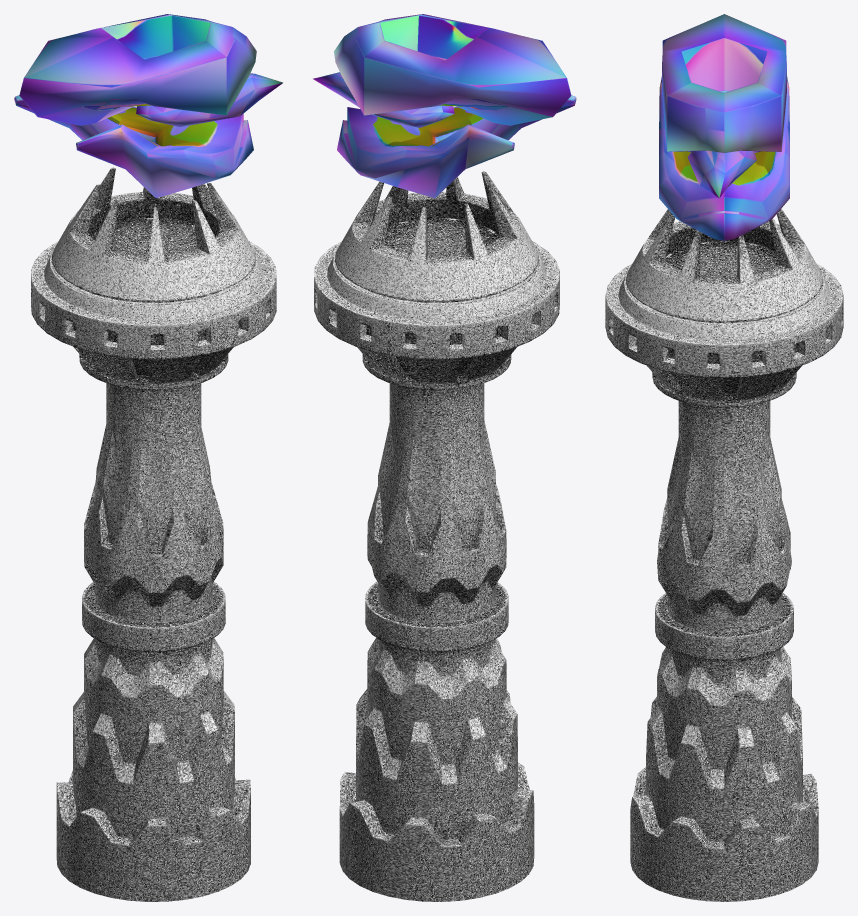
Rendered from Tower_for_10_minutes.fbx.
3 renders of one model, left to right at view 1: azimuth 30°, elevation 25°; view 2: azimuth 150°, elevation 25°; view 3: azimuth 270°, elevation 25°, orthographic. The views are drawn at different scales.
Visible parts, largest first — view 1: tower_low, Cube_low, crystal_low; view 2: tower_low, Cube_low, crystal_low; view 3: tower_low, Cube_low, crystal_low.
Part boxes in pixels (x1,y1,x2,y2): tower_low: [31, 167, 276, 901]; Cube_low: [14, 14, 256, 197]; crystal_low: [136, 73, 282, 126]; tower_low: [314, 171, 559, 901]; Cube_low: [334, 14, 576, 198]; crystal_low: [313, 72, 454, 127]; tower_low: [605, 208, 843, 901]; Cube_low: [659, 14, 789, 240]; crystal_low: [687, 150, 756, 198].
Size of the model in its own units: 108 by 329 by 88.13.
